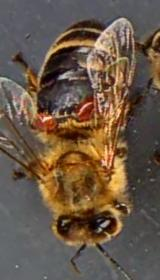varroa_mite: (28, 106, 58, 136), (68, 99, 99, 122)
